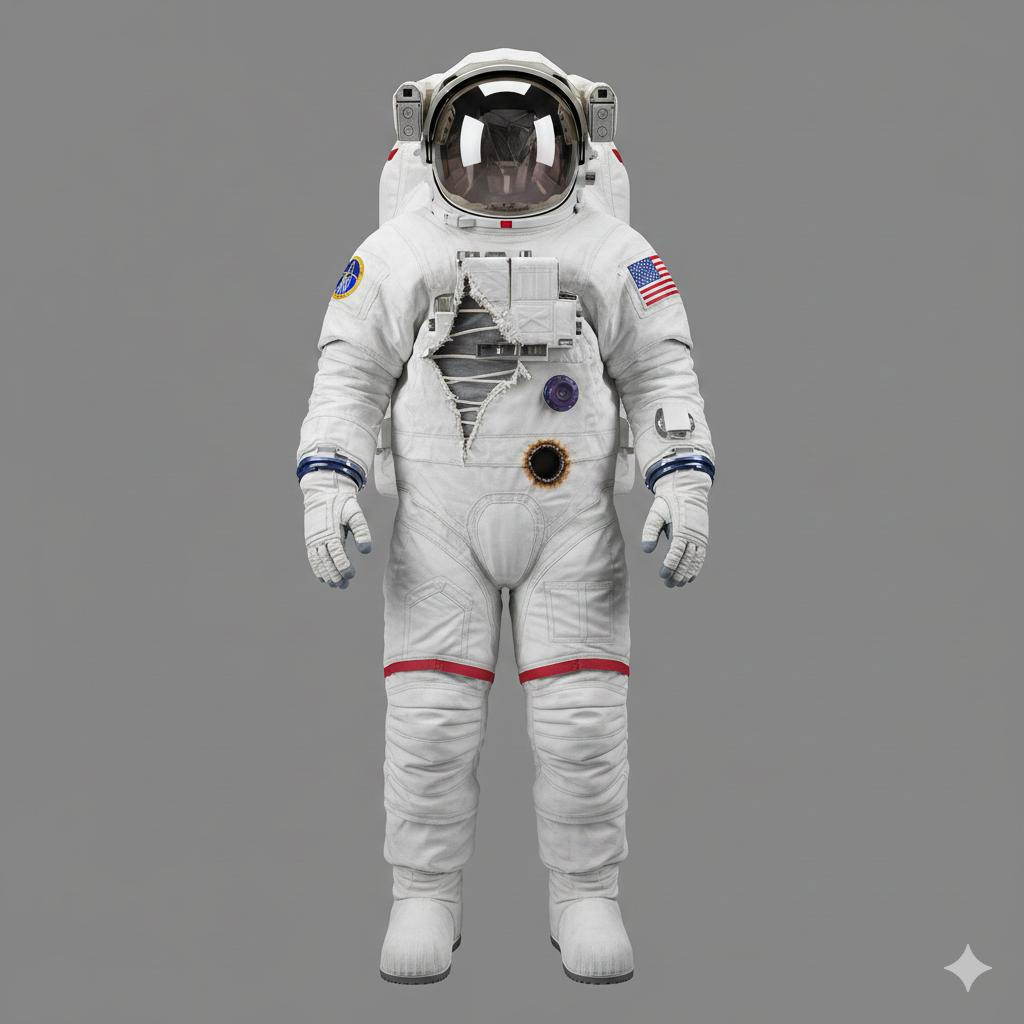puncture: (523, 418, 586, 520)
tear: (418, 278, 508, 477)
